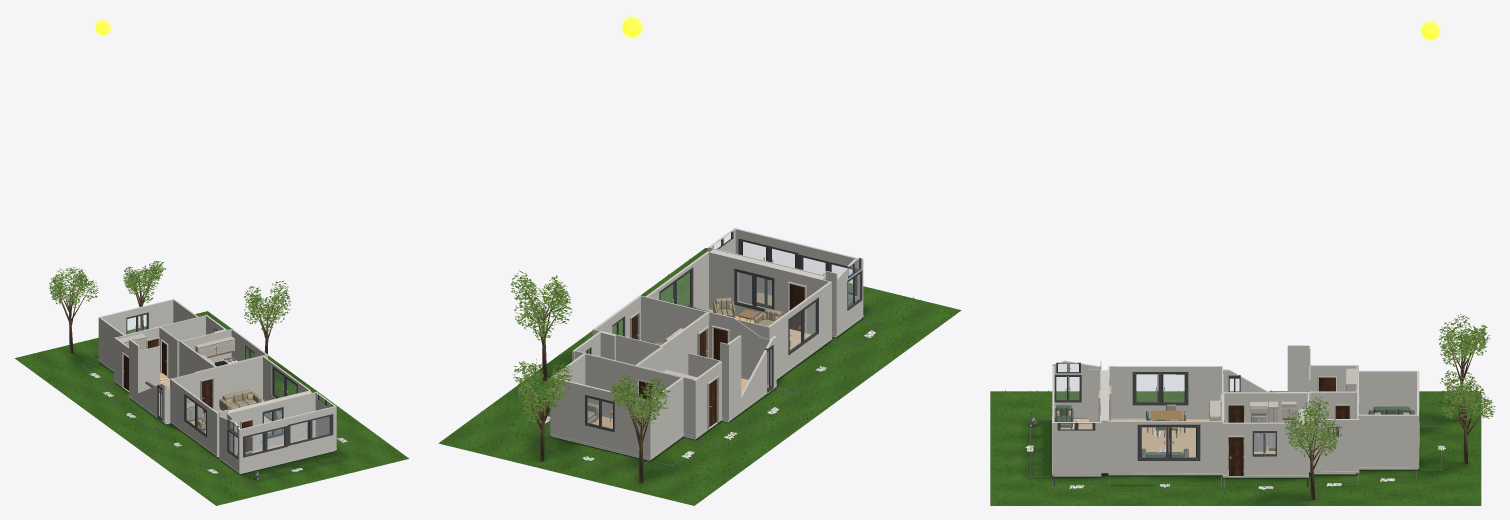
Rendered from zemin-iyilestirilmis.glb.
The picture shows the model from 3 angles, left to right: view 1: azimuth 30°, elevation 25°; view 2: azimuth 150°, elevation 25°; view 3: azimuth 270°, elevation 25°; orthographic projection. The views are drawn at different scales.
Visible parts, largest first — view 1: V6_Garden_Lawn, Duvar.031, Duvar.030, Duvar.036, Duvar.029, V6_Tree_Leaves_2, V6_Tree_Leaves_0, Duvar.010, Duvar, V6_Grass_Blades, wall_022.008, wall_022.007 (+16 smaller); view 2: V6_Garden_Lawn, Duvar.010, Duvar.027, Duvar.029, V6_Tree_Leaves_2, Duvar.013, Duvar, V6_Grass_Blades, V6_Tree_Leaves_1, Duvar.023, Duvar.011, Duvar.008 (+21 smaller); view 3: V6_Garden_Lawn, Duvar.028, Duvar.029, Duvar.012, Duvar.022, Duvar.032, wall_022.005, Duvar.011, Duvar.016, wall_022.006, V6_Tree_Leaves_2, V6_Grass_Blades (+13 smaller).
Part boxes in pixels (x1=…): V6_Garden_Lawn: x1=14, y1=311, x2=409, y2=505; Duvar.031: x1=239, y1=406, x2=336, y2=472; Duvar.030: x1=172, y1=356, x2=264, y2=414; Duvar.036: x1=228, y1=392, x2=315, y2=453; Duvar.029: x1=170, y1=378, x2=217, y2=455; V6_Tree_Leaves_2: x1=243, y1=280, x2=290, y2=332; V6_Tree_Leaves_0: x1=49, y1=267, x2=98, y2=307; Duvar.010: x1=100, y1=299, x2=174, y2=334; Duvar: x1=129, y1=339, x2=166, y2=421; V6_Grass_Blades: x1=21, y1=312, x2=405, y2=502; wall_022.008: x1=287, y1=414, x2=333, y2=445; wall_022.007: x1=243, y1=426, x2=287, y2=457; V6_Garden_Lawn: x1=438, y1=248, x2=961, y2=505; Duvar.010: x1=550, y1=377, x2=650, y2=457; Duvar.027: x1=707, y1=250, x2=831, y2=333; Duvar.029: x1=768, y1=282, x2=831, y2=377; V6_Tree_Leaves_2: x1=510, y1=270, x2=572, y2=340; Duvar.013: x1=585, y1=354, x2=682, y2=416; Duvar: x1=727, y1=335, x2=776, y2=418; V6_Grass_Blades: x1=443, y1=249, x2=954, y2=500; V6_Tree_Leaves_1: x1=513, y1=361, x2=572, y2=422; Duvar.023: x1=641, y1=296, x2=706, y2=343; Duvar.011: x1=650, y1=377, x2=683, y2=457; Duvar.008: x1=709, y1=312, x2=771, y2=383; V6_Garden_Lawn: x1=990, y1=391, x2=1481, y2=505; Duvar.028: x1=1108, y1=420, x2=1222, y2=472; Duvar.029: x1=1108, y1=366, x2=1222, y2=418; Duvar.012: x1=1358, y1=414, x2=1418, y2=467; Duvar.022: x1=1223, y1=422, x2=1308, y2=475; Duvar.032: x1=1052, y1=422, x2=1101, y2=474; wall_022.005: x1=1137, y1=424, x2=1200, y2=460; Duvar.011: x1=1358, y1=370, x2=1419, y2=414; Duvar.016: x1=1309, y1=419, x2=1359, y2=471; wall_022.006: x1=1132, y1=372, x2=1188, y2=405; V6_Tree_Leaves_2: x1=1284, y1=397, x2=1342, y2=456; V6_Grass_Blades: x1=990, y1=389, x2=1481, y2=505.
Size of what is drawn, in the model's own units: 0.6568 by 1.03 by 1.14.
Materials: 56 (18 with a texture image).
